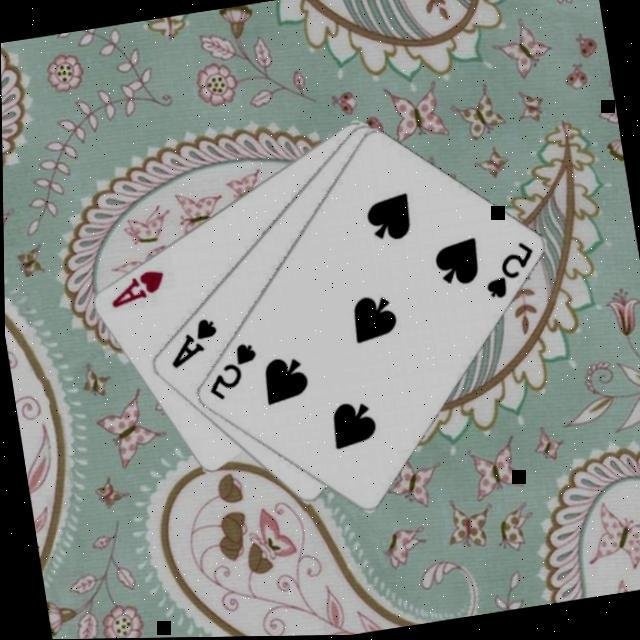5S: (476, 237, 540, 303), (200, 337, 264, 402)
AH: (102, 263, 172, 310)
AS: (160, 312, 224, 371)
